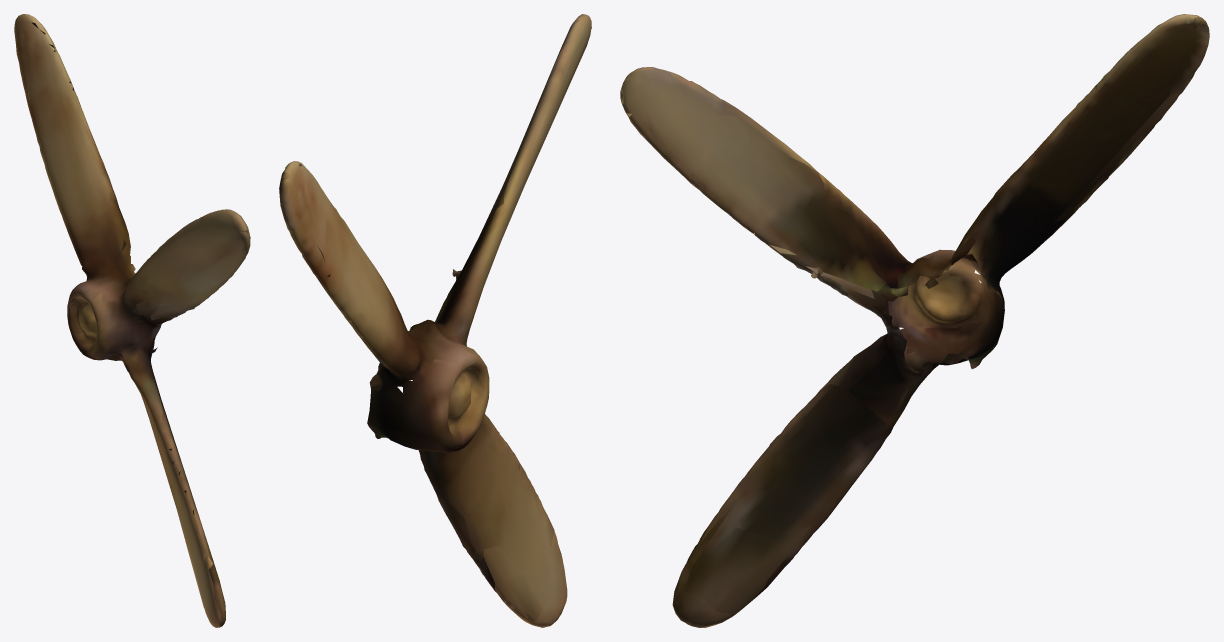
The model's file is helice1.obj.
3 views of the same model, side by side, from view 1: azimuth 30°, elevation 25°; view 2: azimuth 150°, elevation 25°; view 3: azimuth 270°, elevation 25° (orthographic). The views are drawn at different scales.
Parts seen in each view (by area): view 1: nave.002; view 2: nave.002; view 3: nave.002.
Boxes of the visible parts, x1,y1,x2,y2 form: nave.002: (14, 14, 250, 627); nave.002: (279, 14, 591, 627); nave.002: (620, 14, 1209, 627).
Size of the model in its own units: 0.0429 by 0.3157 by 0.2746.
